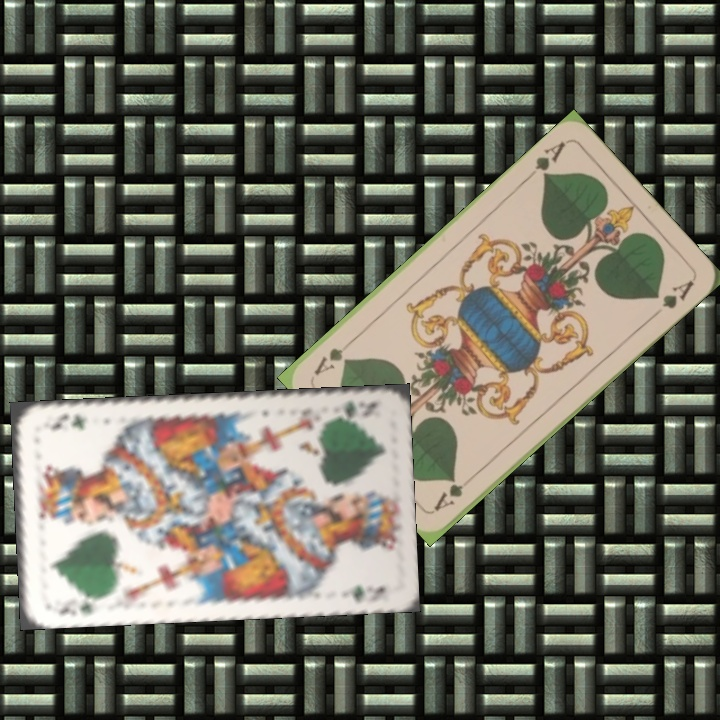GA: (522, 137, 568, 183), (429, 479, 465, 514)
GK: (47, 591, 103, 617), (326, 396, 380, 421)
